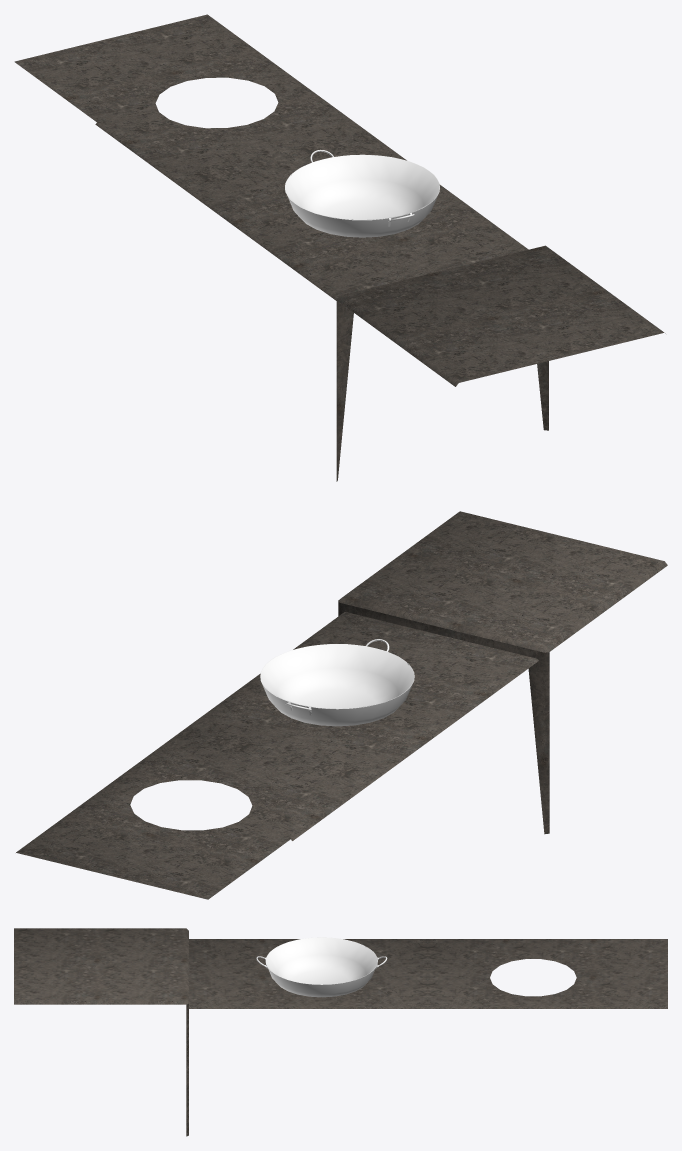
Rendered from scene_countryside.glb.
3 views of the same model, one above another, from view 1: azimuth 30°, elevation 25°; view 2: azimuth 150°, elevation 25°; view 3: azimuth 270°, elevation 25° (orthographic). The views are drawn at different scales.
Parts seen in each view (by area): view 1: SM_CBS_kezhanshinei_13.001; view 2: SM_CBS_kezhanshinei_13.001; view 3: SM_CBS_kezhanshinei_13.001.
Boxes of the visible parts, left/top/right/bottom form: SM_CBS_kezhanshinei_13.001: left=14, top=14, right=665, bottom=481; SM_CBS_kezhanshinei_13.001: left=16, top=511, right=667, bottom=899; SM_CBS_kezhanshinei_13.001: left=14, top=928, right=667, bottom=1136.
Bounding box in the file's own units: 11.97 × 10.87 × 44.13.
Materials: 2 (1 with a texture image).
